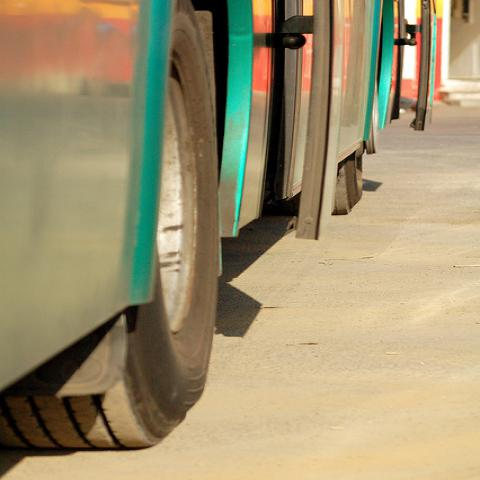bus: (0, 0, 444, 454)
